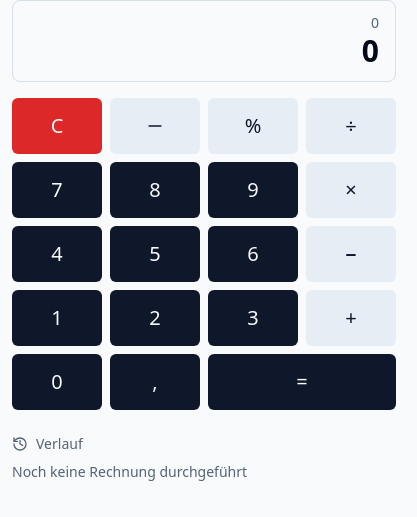
Calculator — Operator-Buttons per Klick (Klick-Pfad) › Klick-Pfad: 7, ×, 6, = ruft die API mit MULTIPLY auf und zeigt 42
Click the button "7": click(57, 190) [12,162,102,218]
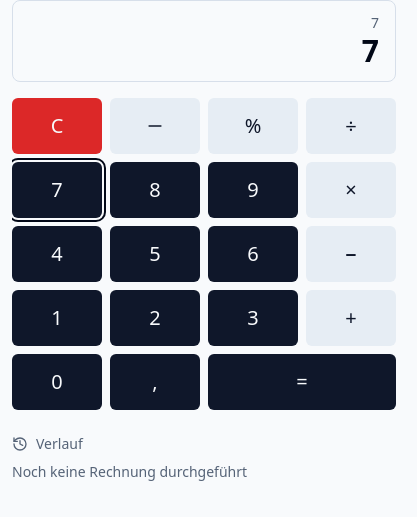
Click the button "×": click(351, 190) [306,162,396,218]
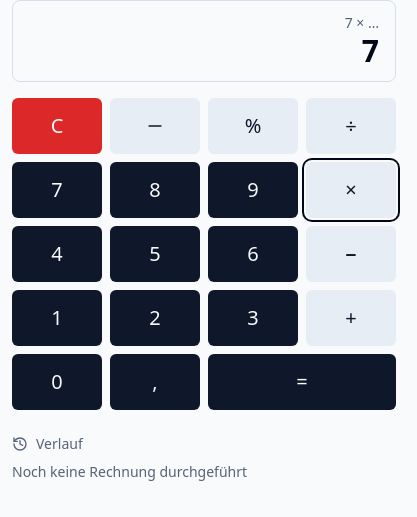
Click the button "6": click(253, 254) [208,226,298,282]
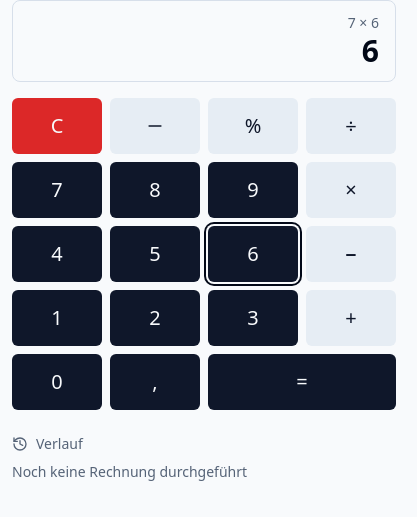
Click the button named "Gleich": click(302, 382) [208,354,396,410]
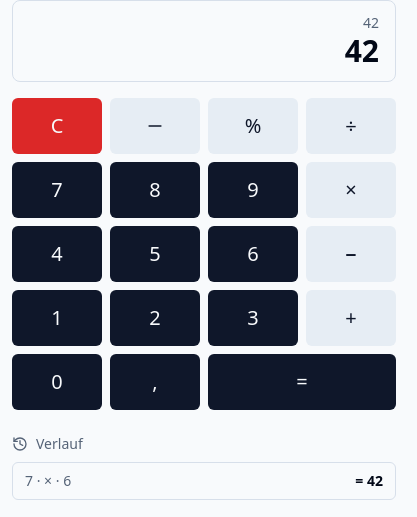
Expected: the 2nd text "42" is shown, [345,30,379,71]
